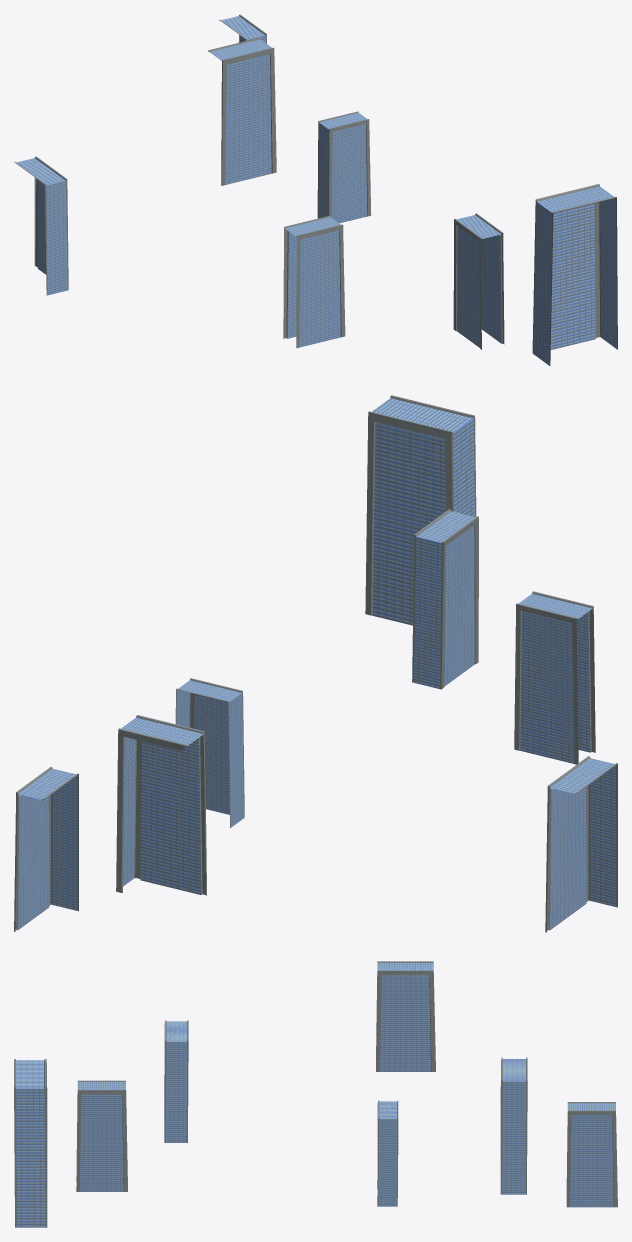
The model's file is New_York_track_building_city_04.dae.
3 renders of one model, top to bottom at view 1: azimuth 30°, elevation 25°; view 2: azimuth 150°, elevation 25°; view 3: azimuth 270°, elevation 25°, orthographic. The views are drawn at different scales.
Parts seen in each view (by area): view 1: Building_city_04_07, Building_city_04_02, Building_city_04_04, Building_city_04_06, Building_city_04_01, Building_city_04_05, Building_city_04_03; view 2: Building_city_04_07, Building_city_04_02, Building_city_04_04, Building_city_04_06, Building_city_04_05, Building_city_04_03, Building_city_04_01; view 3: Building_city_04_05, Building_city_04_06, Building_city_04_07, Building_city_04_03, Building_city_04_02, Building_city_04_04, Building_city_04_01.
Part boxes in pixels (x1,y1,x2,y2): Building_city_04_07: (532,184,617,365); Building_city_04_02: (208,37,276,185); Building_city_04_04: (283,215,345,348); Building_city_04_06: (453,213,504,349); Building_city_04_01: (317,111,371,223); Building_city_04_05: (14,156,68,295); Building_city_04_03: (219,14,266,43); Building_city_04_07: (365,395,476,625); Building_city_04_02: (116,715,206,895); Building_city_04_04: (514,591,595,764); Building_city_04_06: (412,509,478,689); Building_city_04_05: (545,756,617,932); Building_city_04_03: (14,766,78,931); Building_city_04_01: (175,678,244,828); Building_city_04_05: (376,961,435,1071); Building_city_04_06: (76,1080,127,1191); Building_city_04_07: (14,1059,47,1227); Building_city_04_03: (566,1102,617,1207); Building_city_04_02: (500,1057,527,1194); Building_city_04_04: (164,1020,188,1142); Building_city_04_01: (377,1100,398,1206).
Size of the model in its own units: 22.8 by 35.13 by 9.03.
2 materials, 2 textured.
